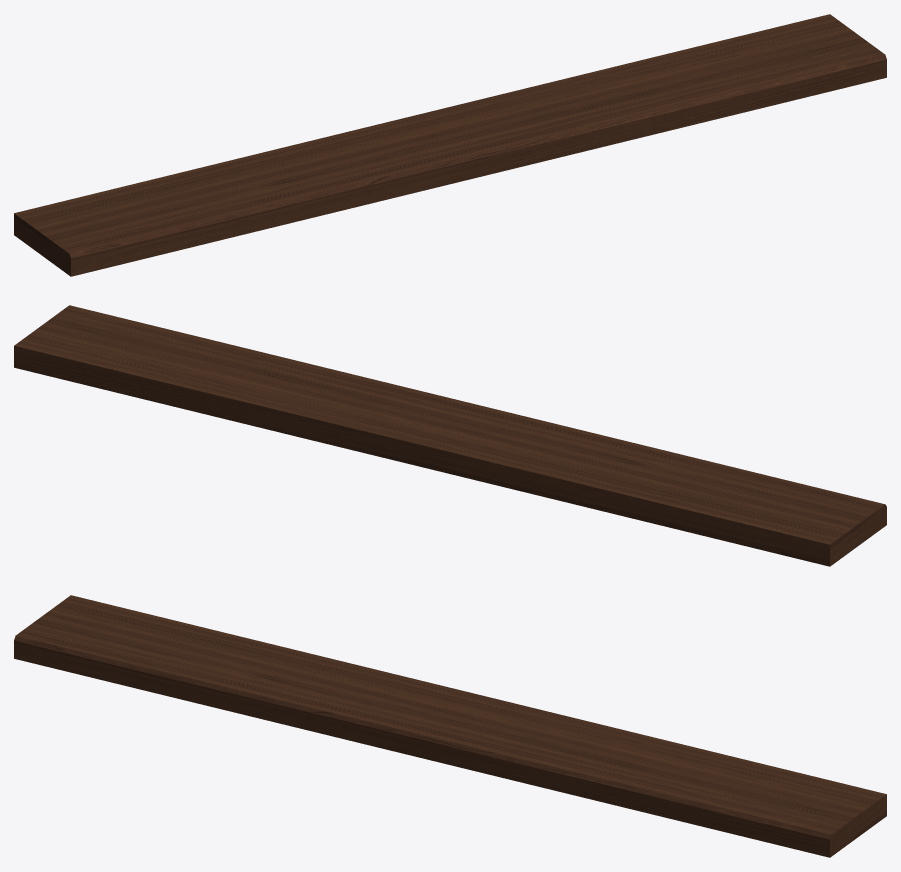
File: Skirting board.FBX
3 renders of one model, top to bottom at view 1: azimuth 30°, elevation 25°; view 2: azimuth 150°, elevation 25°; view 3: azimuth 330°, elevation 25°, orthographic.
Parts seen in each view (by area): view 1: skirting board; view 2: skirting board; view 3: skirting board.
Boxes of the visible parts, bbox=[...] form: skirting board: bbox=[14, 14, 886, 276]; skirting board: bbox=[14, 305, 886, 566]; skirting board: bbox=[14, 595, 886, 857].
Size of the model in its own units: 295 by 7.55 by 35.61.
1 material, 1 textured.
